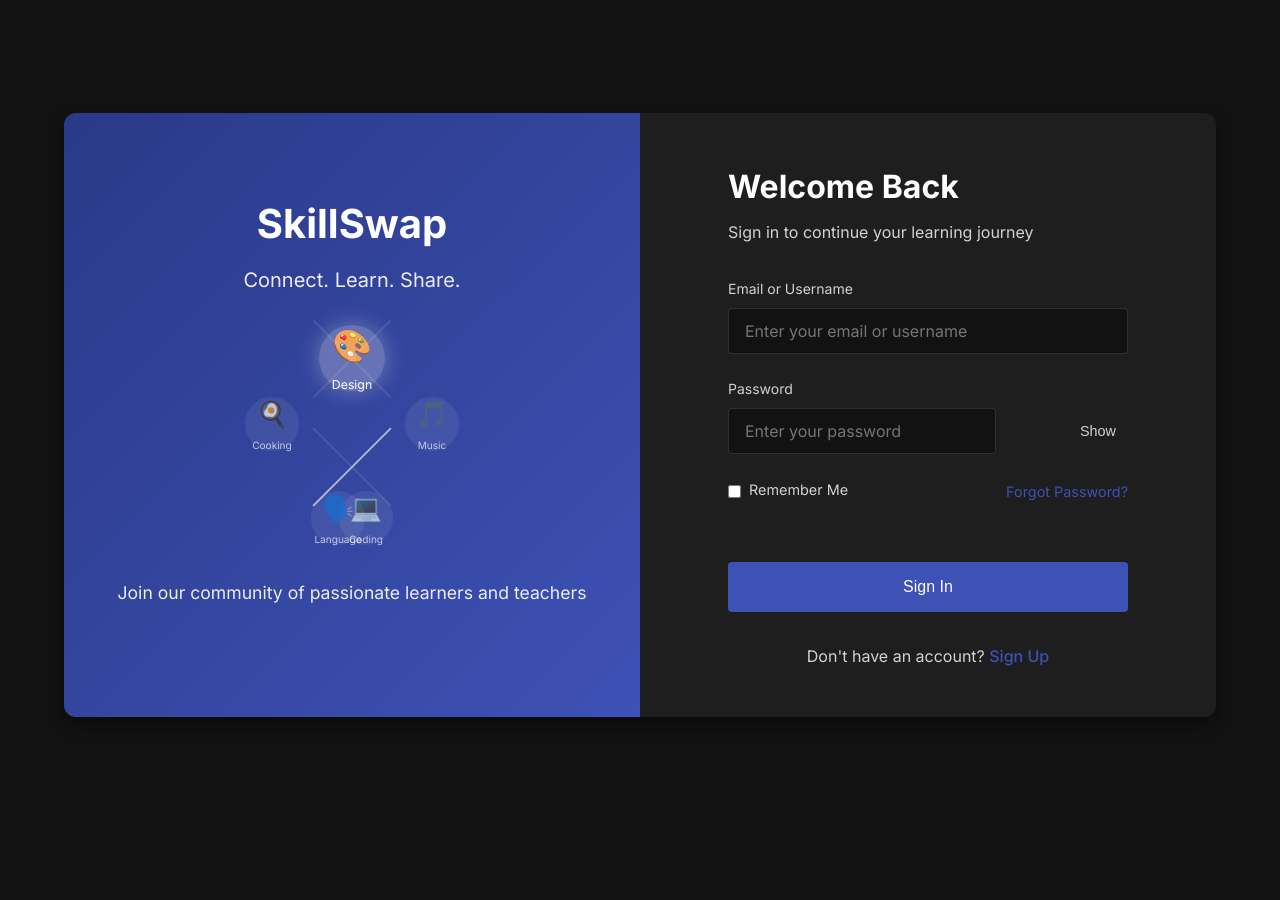
Test: Login functionality tests › Login with incorrect password shows error message
Fill the form with incorrect password
Type "johndoe" into the field labelled "Email or Username" at (928, 331), box [728,308,1128,354]
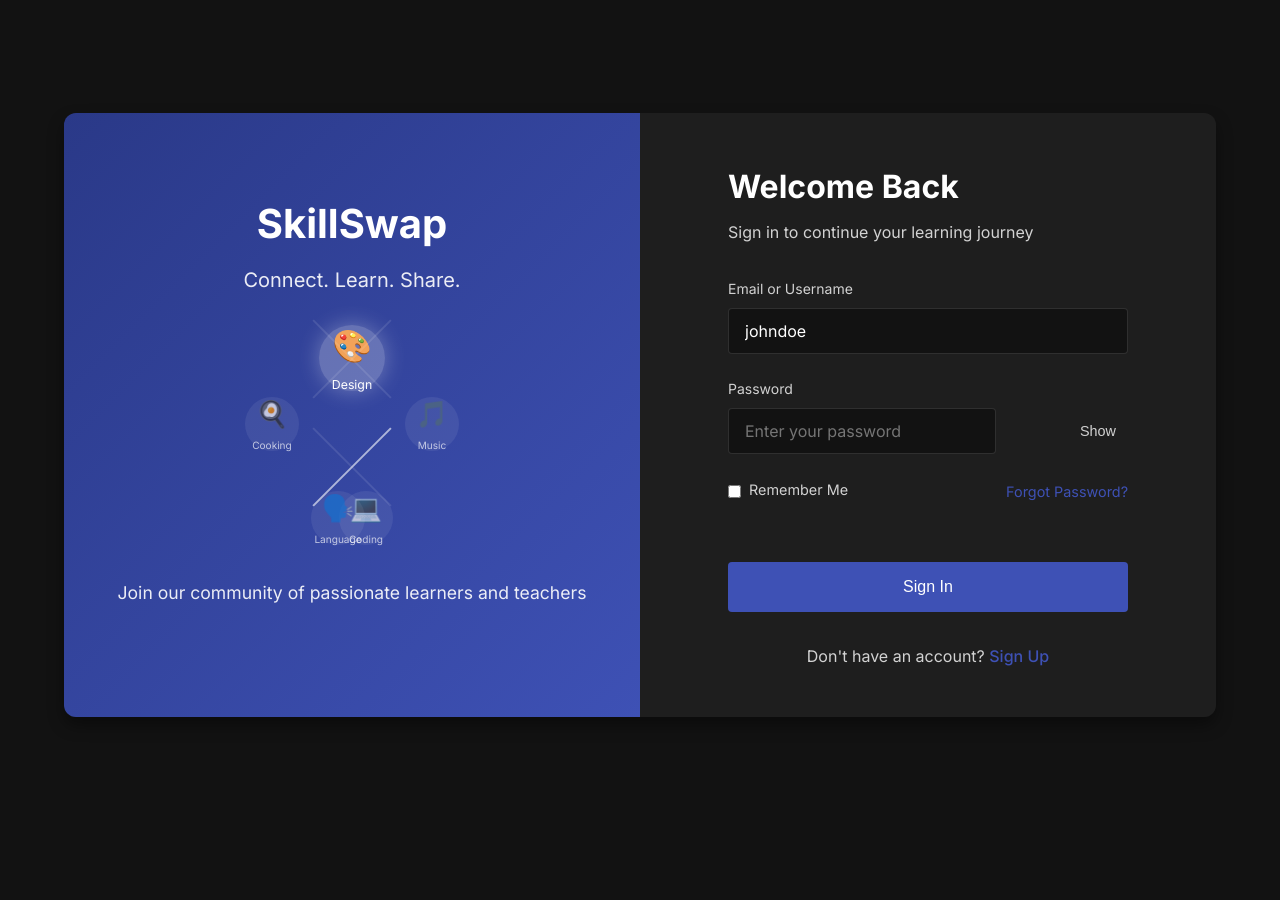
Type "wrongpassword" into the password field labelled "Password" at (862, 432), box [728,408,996,454]
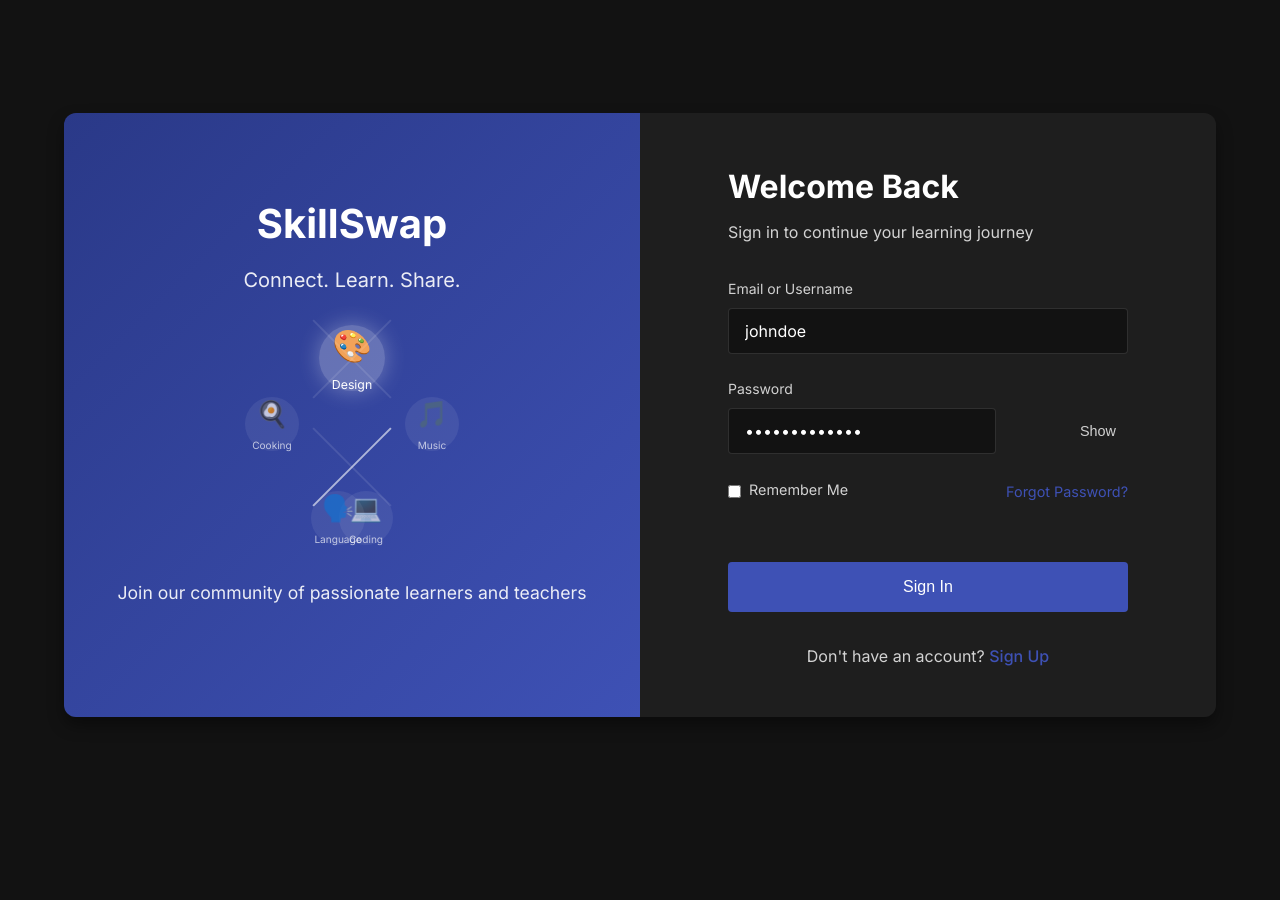
Submit form
Click the button "Sign In" at (928, 586), box [728,562,1128,612]
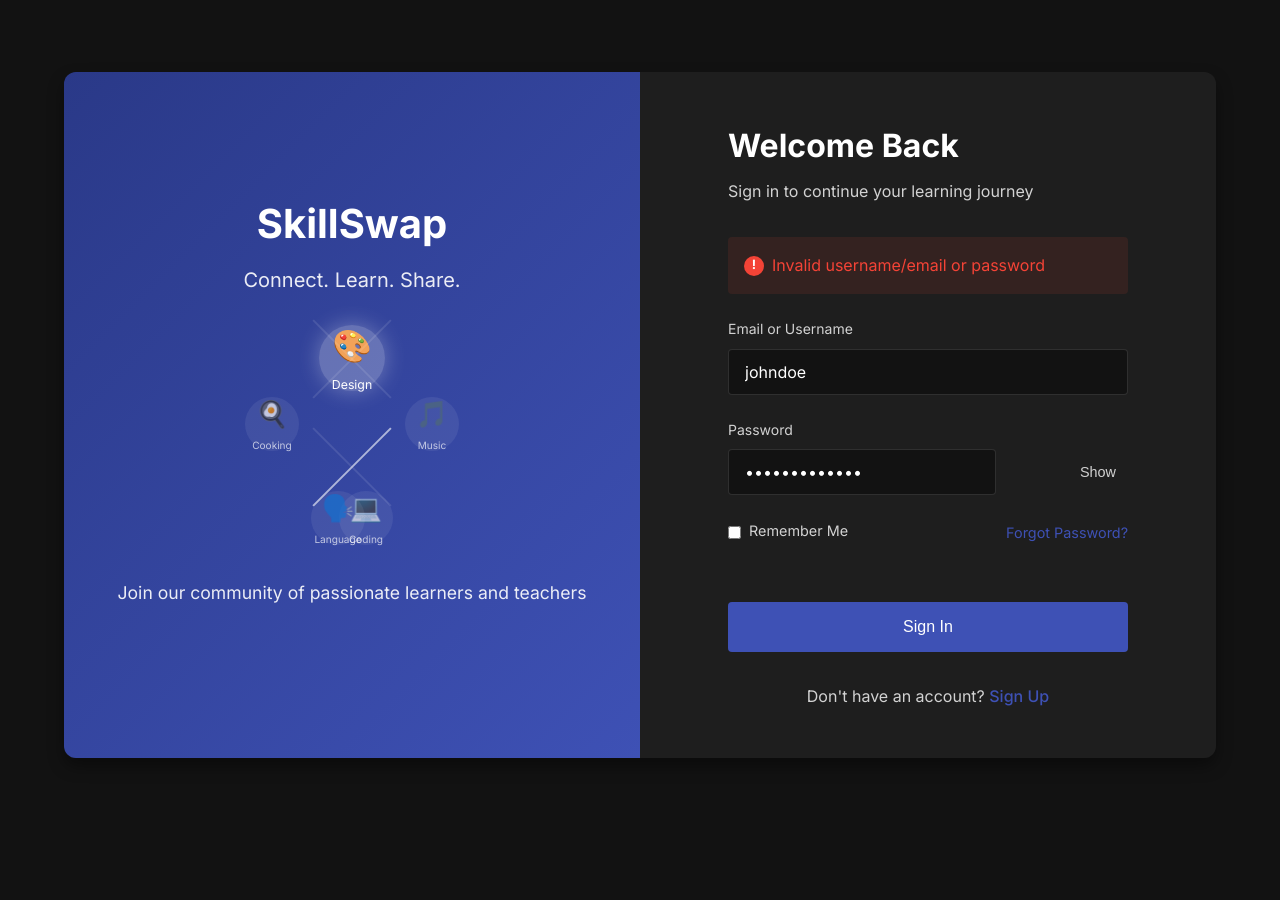
Expected: the text "! Invalid username/email or password" is shown, [728,237,1128,294]
